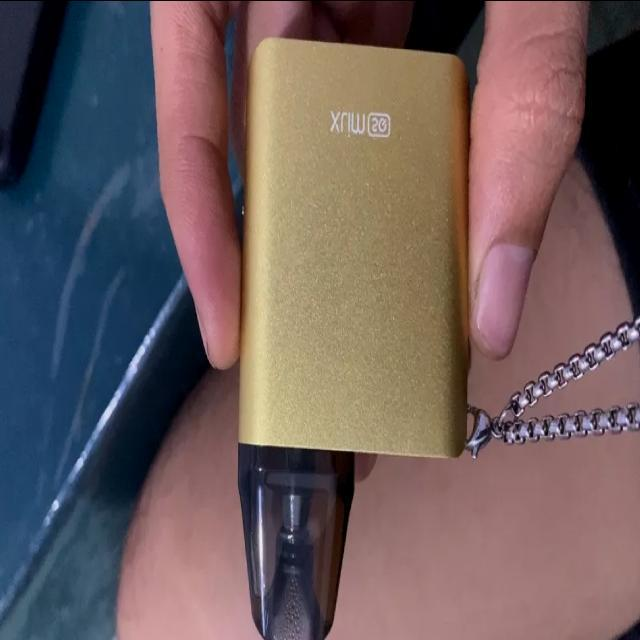Hazard: (235, 37, 471, 640)
